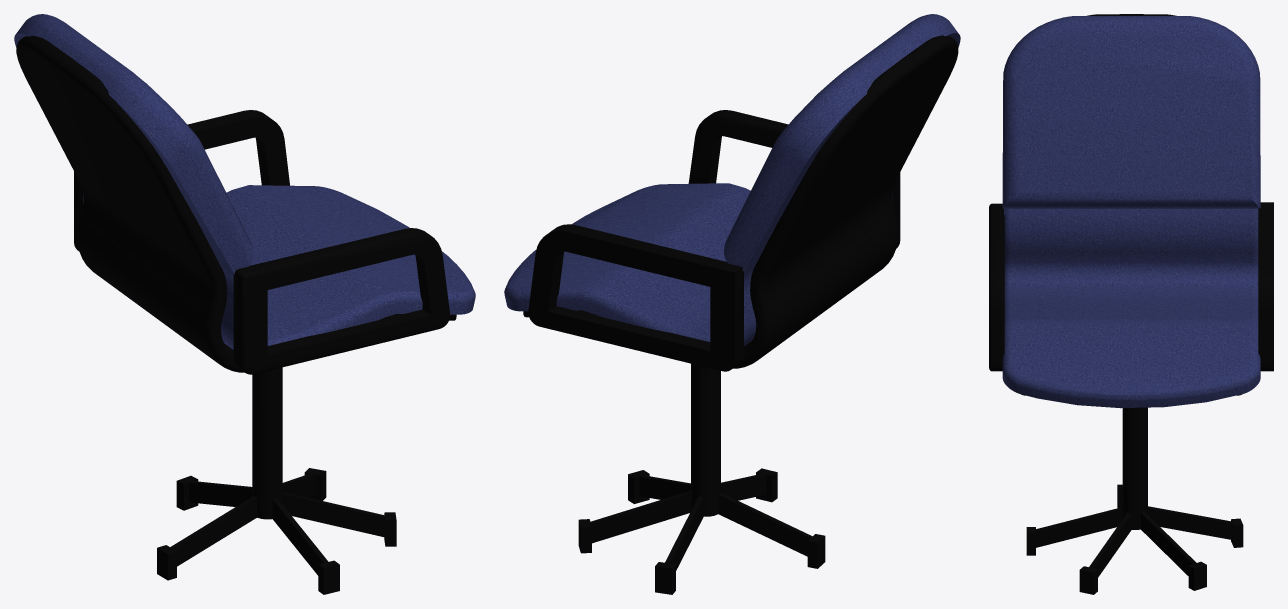
File: KursiRapat.fbx
The picture shows the model from 3 angles, left to right: view 1: azimuth 30°, elevation 25°; view 2: azimuth 150°, elevation 25°; view 3: azimuth 270°, elevation 25°; orthographic projection. The views are drawn at different scales.
Parts seen in each view (by area): view 1: Cube.001, Cube, Cylinder; view 2: Cube.001, Cube, Cylinder; view 3: Cube.001, Cylinder.
Boxes of the visible parts, left/top/right/bottom form: Cube.001: left=14, top=14, right=475, bottom=374; Cube: left=16, top=35, right=456, bottom=372; Cylinder: left=157, top=367, right=396, bottom=594; Cube.001: left=504, top=14, right=960, bottom=371; Cube: left=523, top=35, right=958, bottom=368; Cylinder: left=578, top=363, right=825, bottom=594; Cube.001: left=989, top=16, right=1273, bottom=408; Cylinder: left=1026, top=407, right=1243, bottom=594.
Bounding box in the file's own units: 396 × 554 × 311.
Materials: 2 (1 with a texture image).
